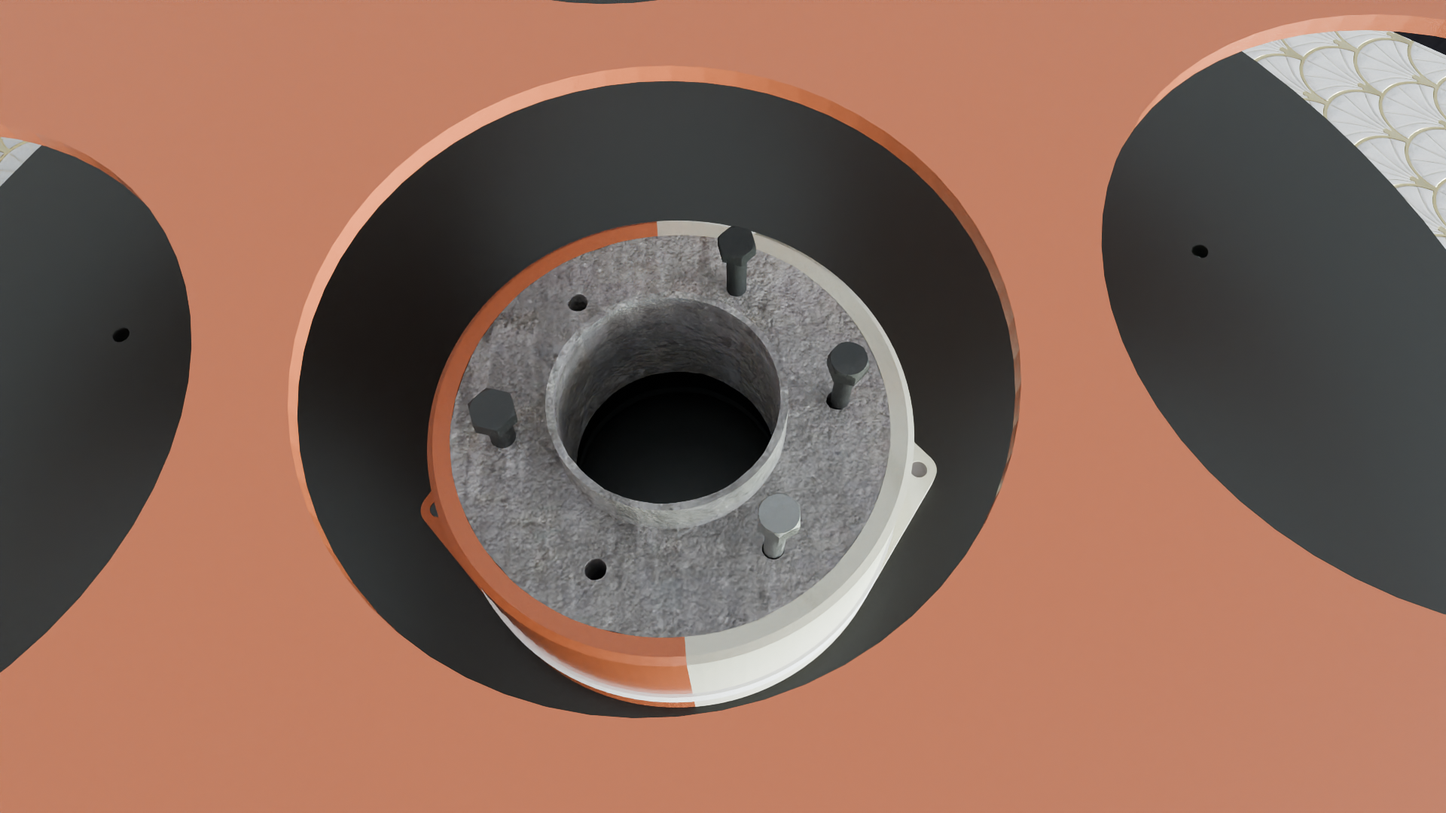bolt: (468, 388, 515, 431), (758, 492, 801, 538), (828, 342, 870, 379), (718, 226, 756, 259)
